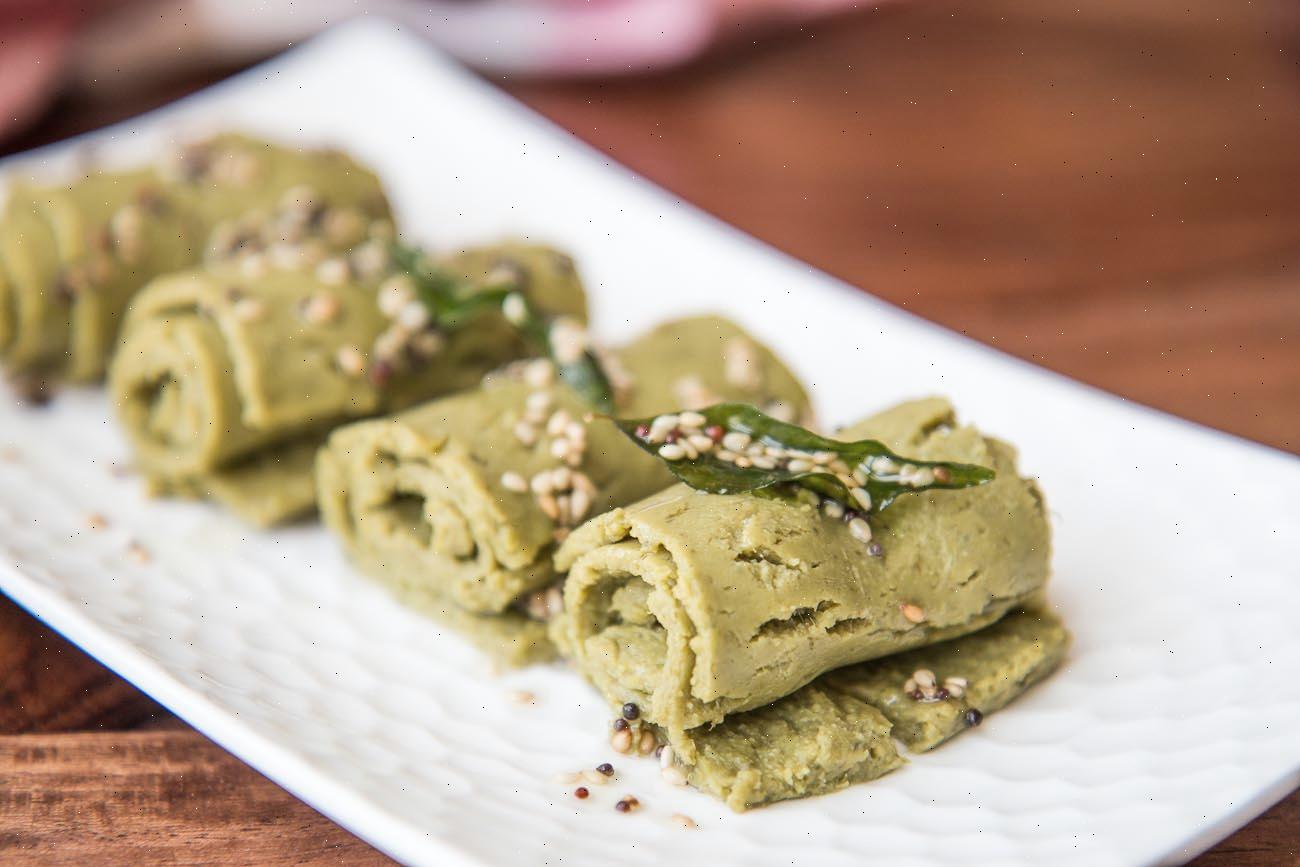khandvi: (0, 140, 1108, 805)
